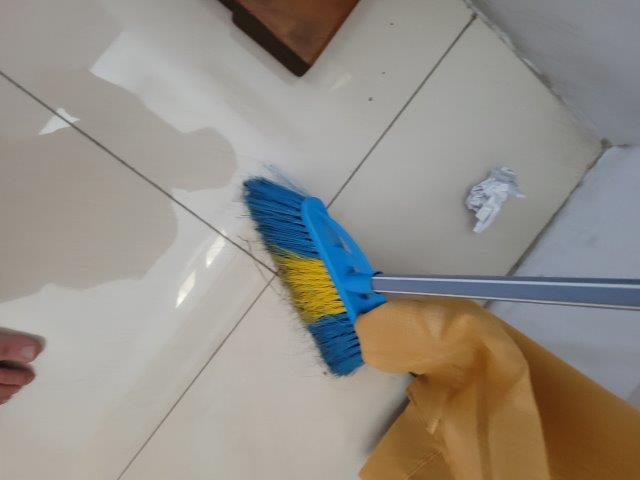kertas: (453, 164, 532, 238)
